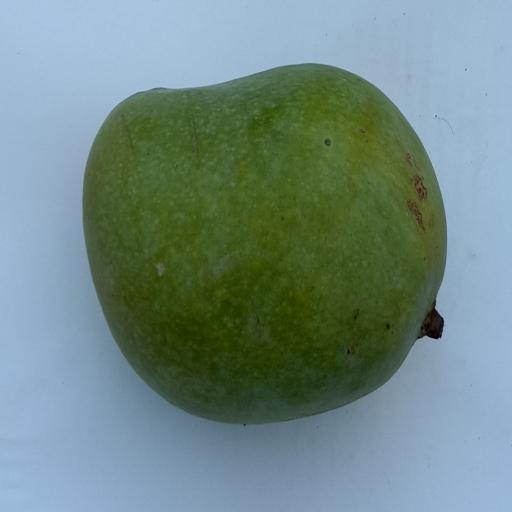mango-unripe: (62, 31, 478, 466)
